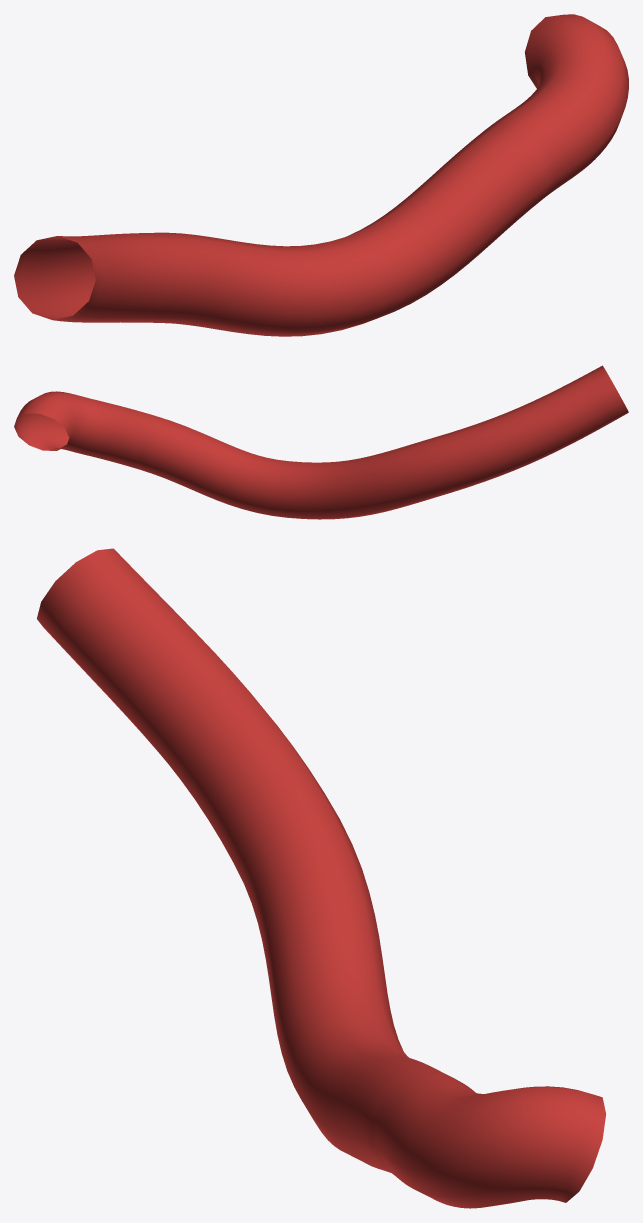
3 renders of one model, top to bottom at view 1: azimuth 30°, elevation 25°; view 2: azimuth 150°, elevation 25°; view 3: azimuth 270°, elevation 25°, orthographic. The views are drawn at different scales.
Visible parts, largest first — view 1: 右侧大脑中动脉M1段; view 2: 右侧大脑中动脉M1段; view 3: 右侧大脑中动脉M1段.
Part boxes in pixels (box(x1,y1,x2,y2)): 右侧大脑中动脉M1段: box(14, 14, 628, 336); 右侧大脑中动脉M1段: box(14, 365, 628, 519); 右侧大脑中动脉M1段: box(37, 548, 605, 1208).
Size of the model in its own units: 0.0434 by 0.0136 by 0.0217.
